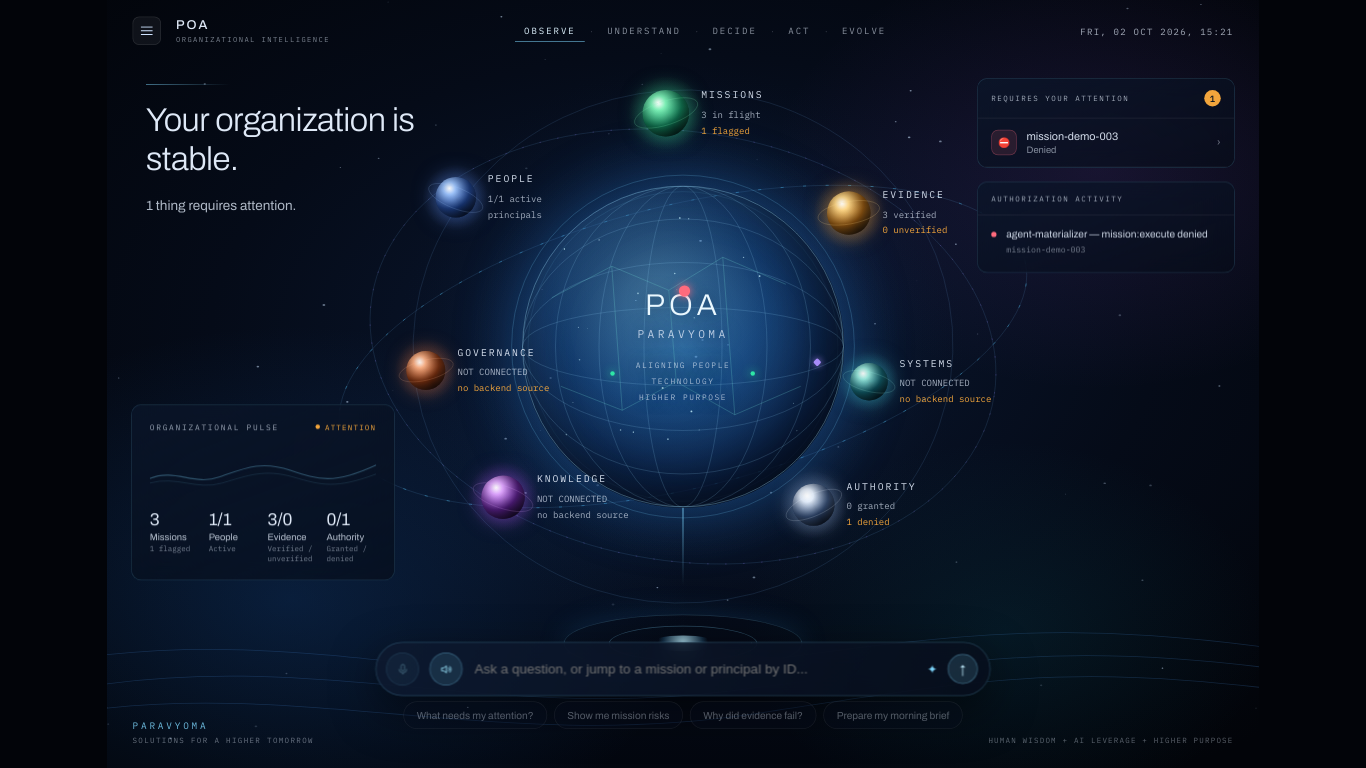
Scenario: voice shell — supported browser › reports a synthesis error with its code, never as success
The width and height of the screenshot is (1366, 768).
Expected: the text "1 thing requires attention." is shown, [146,198,296,213]
Click the button named "Speak greeting" at (446, 669), box [430,652,462,686]
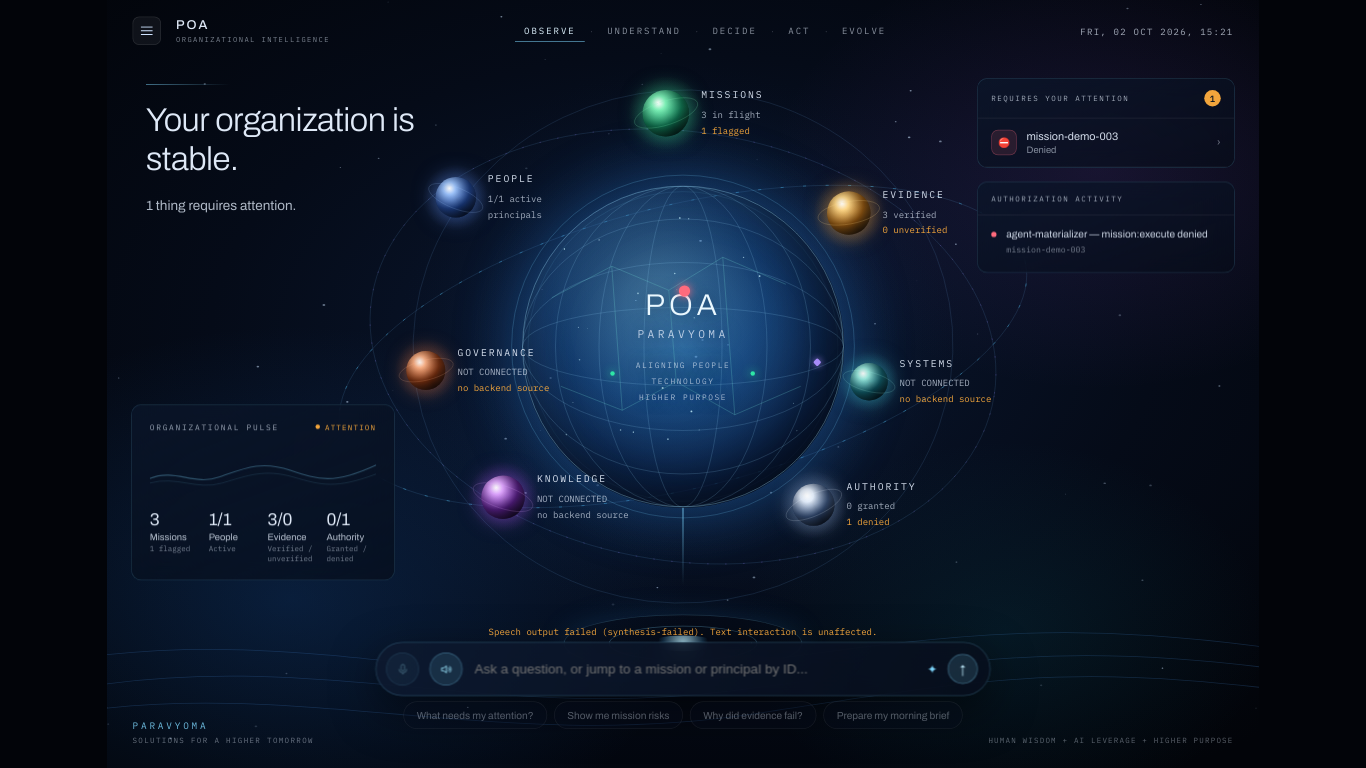
Expected: the message named "Voice status" does not show "Speaking:", [489,626,877,638]
Expected: the message named "Voice status" reads "Speech output failed (synthesis-failed). Text interaction is unaffected.", [489,626,877,638]
